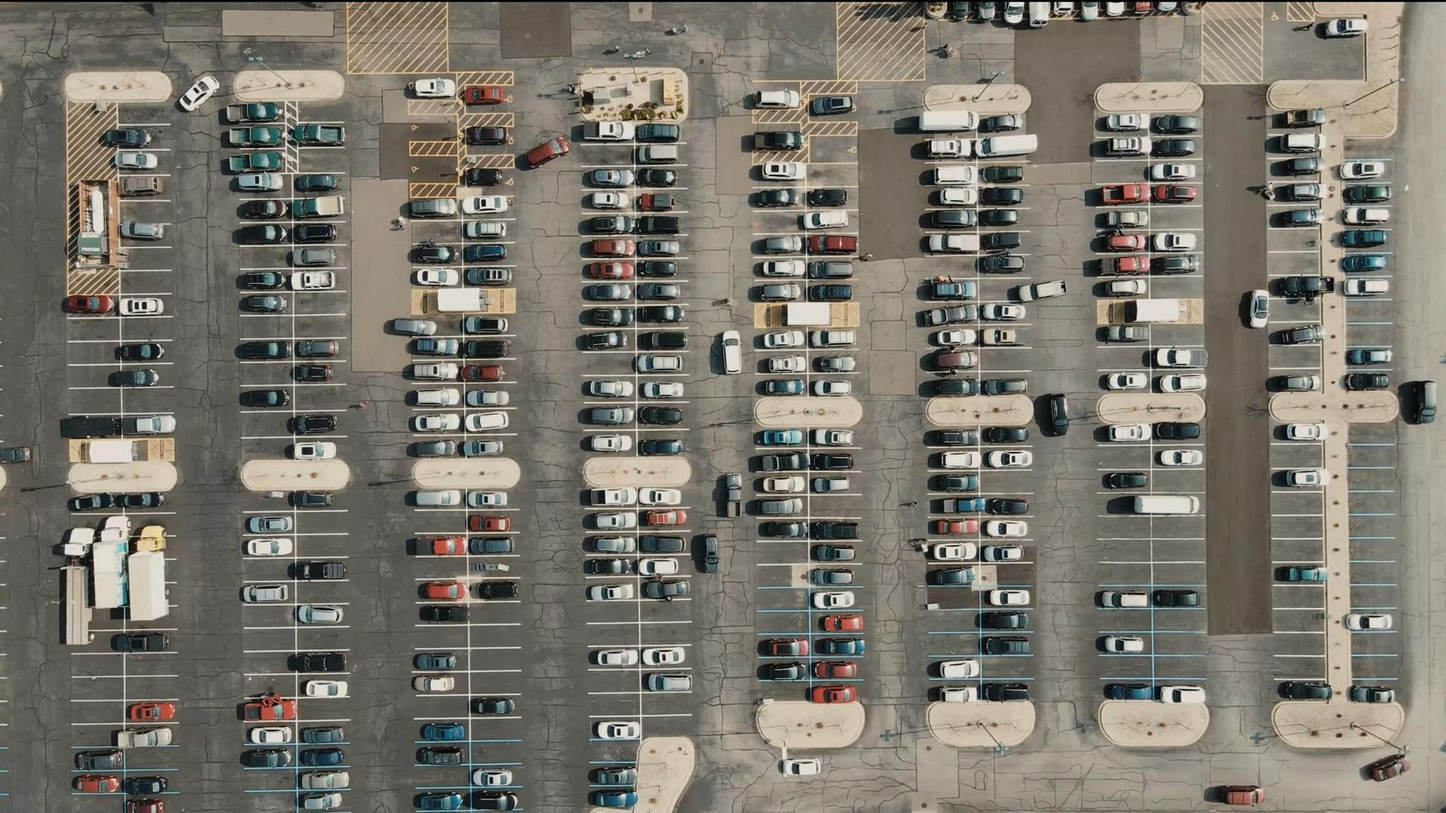available space: (295, 174, 342, 192)
occupied: (586, 487, 693, 588), (1400, 380, 1438, 424), (178, 74, 221, 112), (524, 136, 569, 168), (979, 134, 1038, 158), (1038, 393, 1070, 437), (243, 696, 296, 722), (1276, 276, 1332, 300), (1364, 754, 1412, 782), (1127, 299, 1179, 324), (60, 416, 115, 439), (1132, 496, 1197, 515), (921, 110, 976, 132), (436, 290, 488, 313), (112, 633, 170, 653), (227, 102, 282, 123), (293, 124, 345, 146), (229, 126, 283, 147), (1242, 288, 1271, 327), (577, 330, 636, 349), (291, 652, 344, 673), (719, 329, 743, 375), (1279, 681, 1332, 701), (1015, 280, 1063, 302), (293, 197, 343, 218), (293, 561, 345, 581), (121, 728, 173, 748), (128, 701, 177, 722), (242, 749, 293, 769), (1319, 17, 1367, 38), (60, 528, 96, 556), (1102, 183, 1150, 204), (416, 792, 466, 812), (76, 750, 123, 771), (241, 199, 288, 220), (982, 683, 1031, 703), (103, 128, 152, 148), (583, 122, 632, 142), (1157, 348, 1206, 368), (63, 296, 114, 315), (1278, 131, 1322, 153), (300, 770, 348, 790), (1341, 160, 1389, 180), (412, 244, 460, 264), (461, 195, 509, 215), (417, 746, 464, 766), (927, 138, 974, 158), (116, 343, 165, 362), (1147, 162, 1196, 181), (931, 234, 980, 253), (1280, 155, 1324, 176), (293, 223, 337, 244), (1220, 785, 1264, 806), (592, 767, 638, 787), (122, 775, 168, 795), (810, 684, 856, 704), (111, 369, 162, 387), (409, 198, 457, 217), (1341, 254, 1389, 273), (755, 131, 803, 150), (72, 774, 120, 793), (235, 172, 283, 191), (1344, 185, 1392, 204), (1153, 114, 1201, 133), (759, 662, 807, 681), (1151, 256, 1199, 275), (935, 659, 980, 679), (1346, 371, 1391, 391), (296, 605, 343, 624), (241, 584, 288, 603), (290, 414, 337, 433), (1344, 206, 1391, 225), (1159, 374, 1206, 393), (289, 441, 336, 460), (985, 637, 1032, 656), (133, 525, 166, 552), (1342, 229, 1391, 247), (466, 412, 508, 433), (474, 791, 518, 811), (1105, 136, 1149, 156), (461, 437, 505, 457), (591, 790, 637, 809), (594, 721, 640, 740), (247, 726, 293, 745), (1344, 277, 1390, 296), (1277, 182, 1323, 201), (1277, 326, 1323, 345), (245, 538, 291, 557), (802, 211, 848, 230), (588, 168, 634, 187), (1105, 684, 1156, 701), (419, 605, 467, 623), (240, 389, 288, 407), (241, 272, 289, 290), (812, 96, 855, 116), (755, 89, 798, 109), (121, 176, 164, 196), (301, 748, 346, 767), (421, 723, 466, 742), (636, 123, 681, 142), (244, 224, 289, 243), (763, 638, 808, 657), (97, 516, 131, 541), (1104, 425, 1151, 443), (1345, 613, 1392, 631), (1151, 139, 1198, 157), (413, 78, 455, 98), (294, 271, 336, 291), (723, 473, 743, 515), (304, 679, 348, 698), (121, 220, 165, 239), (473, 697, 517, 716), (132, 415, 176, 434), (464, 220, 508, 239), (1099, 591, 1148, 608), (414, 490, 463, 507), (932, 685, 978, 703), (1160, 686, 1206, 704), (1346, 348, 1392, 366), (241, 295, 287, 313), (462, 316, 508, 334), (1103, 472, 1149, 490), (476, 581, 519, 600), (299, 792, 342, 811), (637, 145, 680, 164), (982, 113, 1025, 132), (78, 233, 107, 261), (647, 673, 692, 691), (246, 516, 291, 534), (1103, 325, 1148, 343), (1103, 372, 1148, 390), (414, 268, 459, 286), (1153, 185, 1198, 203), (121, 297, 163, 316), (643, 647, 685, 666), (423, 581, 465, 600), (1109, 255, 1151, 274), (1105, 232, 1147, 251), (301, 727, 345, 745), (296, 340, 340, 358), (1102, 635, 1146, 653), (1350, 685, 1394, 703), (290, 491, 334, 509), (392, 319, 436, 337), (1106, 210, 1150, 228), (1154, 591, 1200, 608), (592, 649, 638, 666), (472, 768, 513, 787), (780, 758, 821, 777), (1282, 469, 1325, 487), (117, 151, 160, 169), (1104, 113, 1147, 131), (293, 247, 336, 265), (467, 127, 510, 145), (1155, 233, 1198, 251), (465, 244, 508, 262), (1278, 209, 1323, 226), (414, 653, 459, 670), (1286, 109, 1328, 127), (463, 87, 505, 105), (293, 364, 335, 382), (1101, 280, 1143, 298), (762, 162, 804, 180), (988, 589, 1030, 607), (1275, 374, 1319, 391), (1159, 449, 1203, 466), (466, 390, 510, 407), (1285, 423, 1326, 441), (466, 168, 506, 186), (1156, 423, 1201, 439), (427, 537, 467, 555), (413, 675, 455, 692), (1285, 567, 1329, 583), (469, 514, 510, 531), (118, 493, 164, 508), (1028, 1, 1051, 27), (126, 798, 164, 813), (1003, 1, 1026, 25), (0, 447, 31, 463), (926, 0, 948, 19), (1052, 1, 1076, 18), (1080, 0, 1099, 21), (977, 1, 996, 21), (951, 1, 971, 20), (1104, 1, 1126, 18), (1132, 1, 1155, 17), (623, 48, 650, 61), (1157, 1, 1179, 15), (664, 24, 687, 36)
